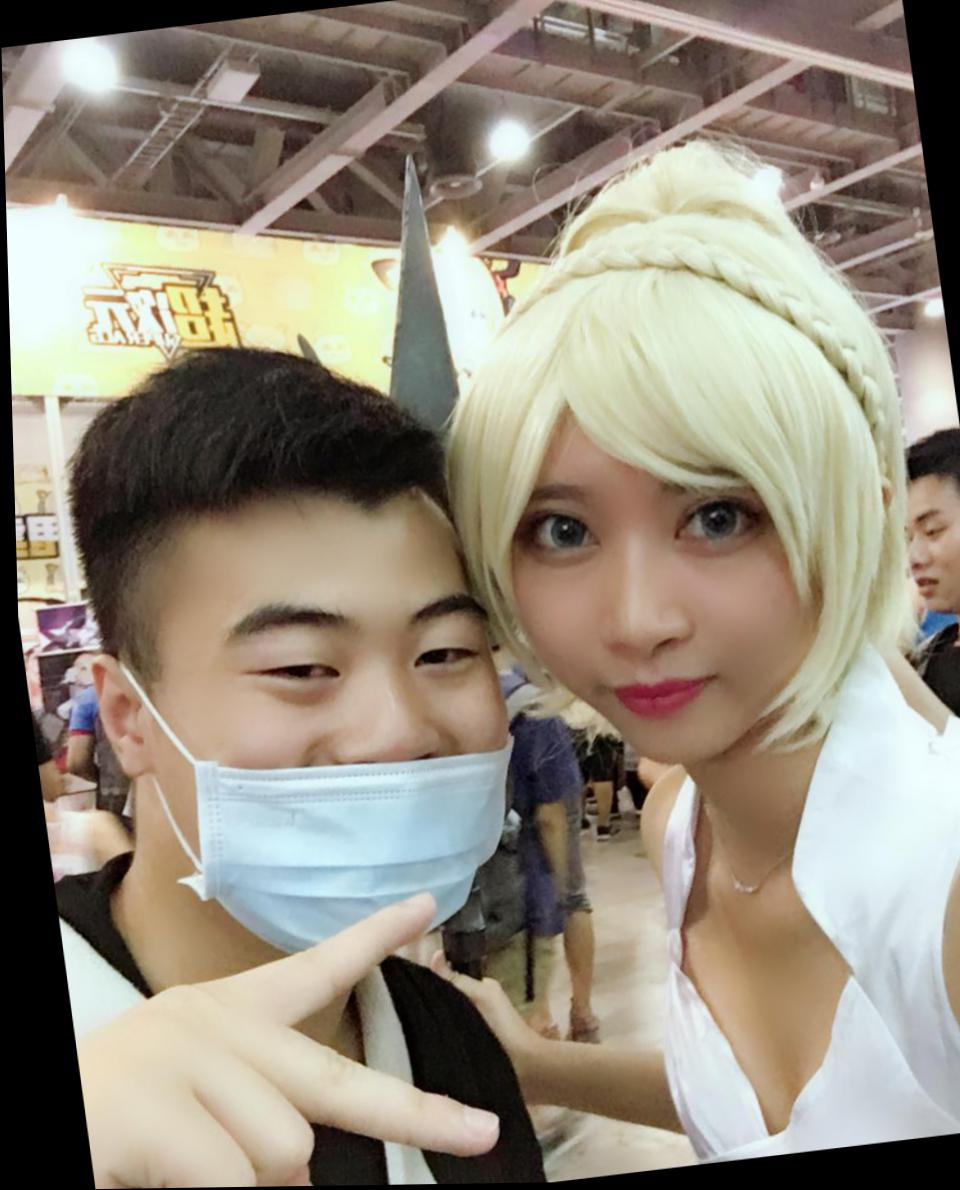NONE: (501, 446, 835, 762), (889, 502, 960, 624)
WRONG: (122, 520, 544, 985)
